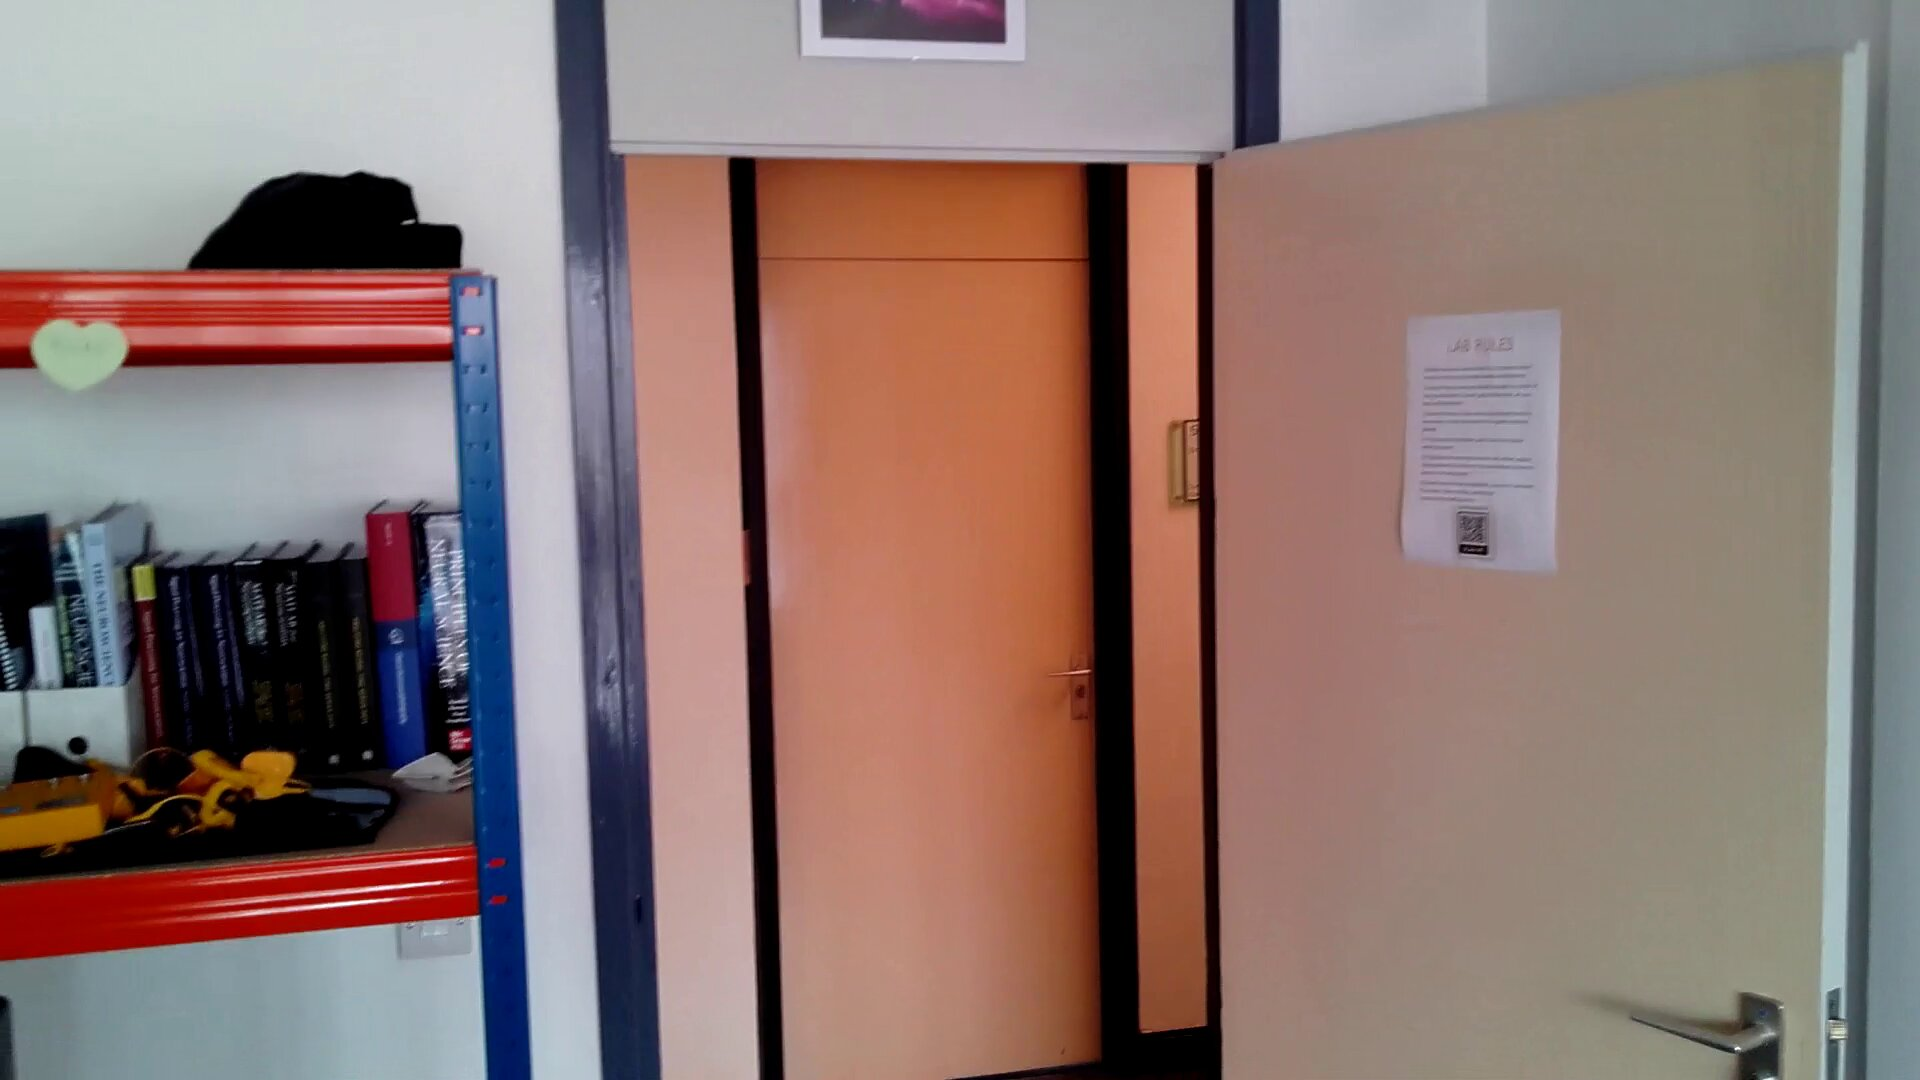Door: (717, 243, 1160, 1080)
